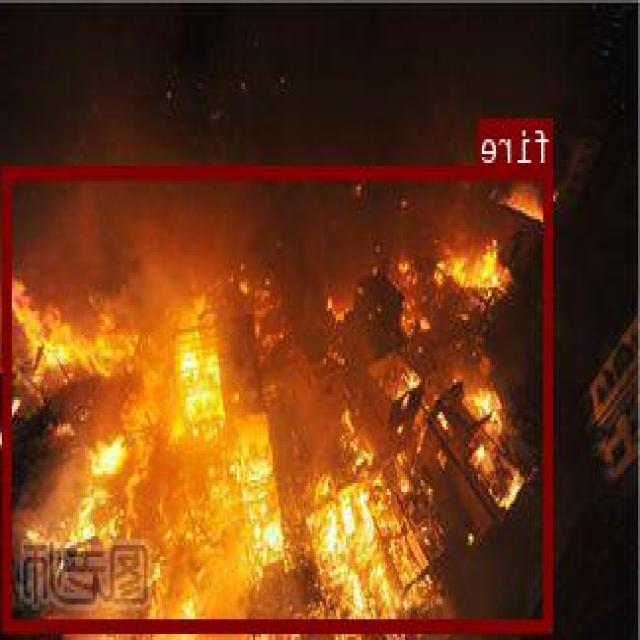fire: (6, 163, 553, 631)
